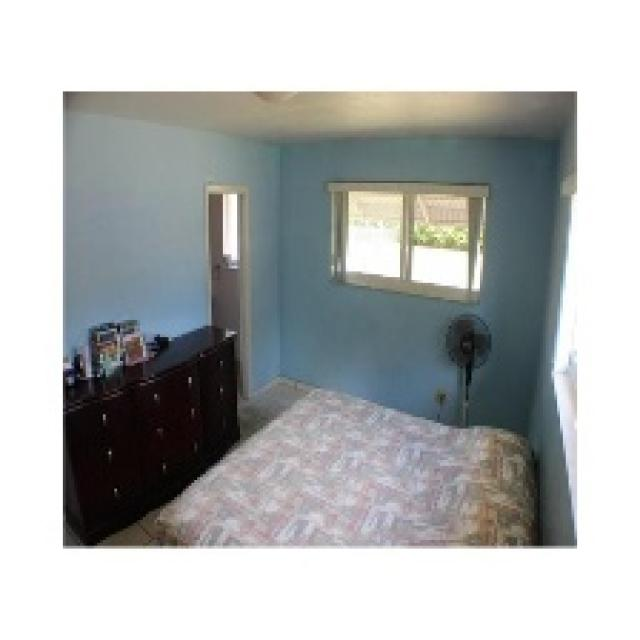dresser: (61, 327, 244, 544)
fan: (440, 308, 488, 427)
